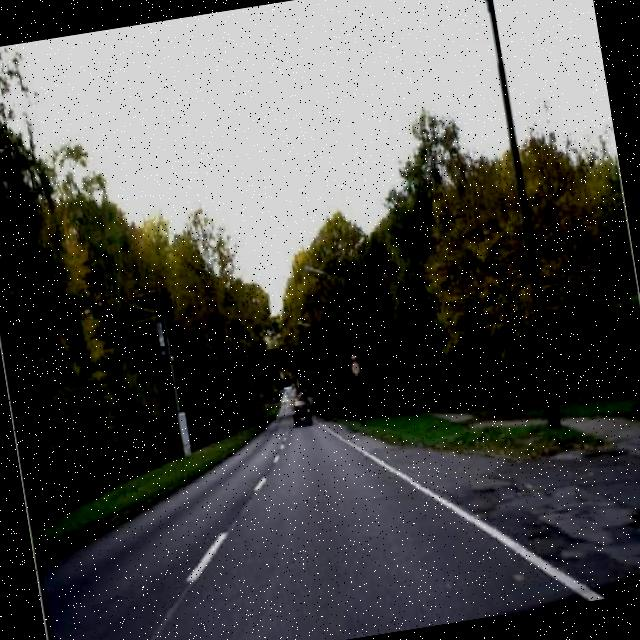Ograniczenie predkosci do 50: (348, 359, 362, 379)
